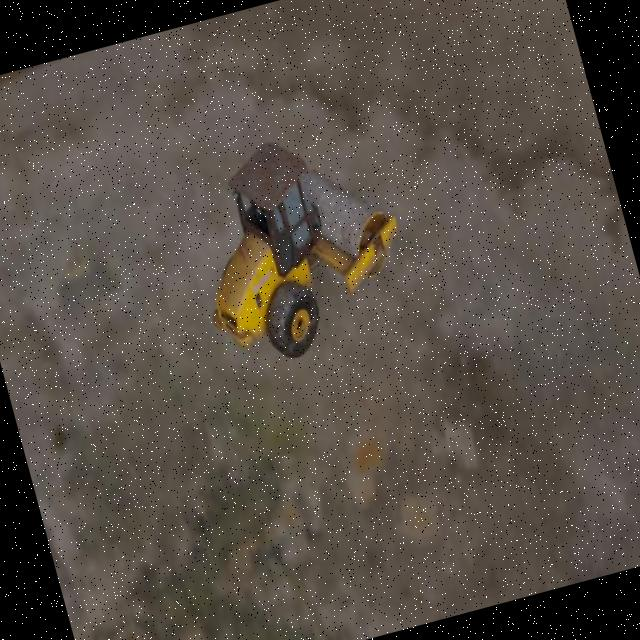Roller: (170, 113, 423, 376)
